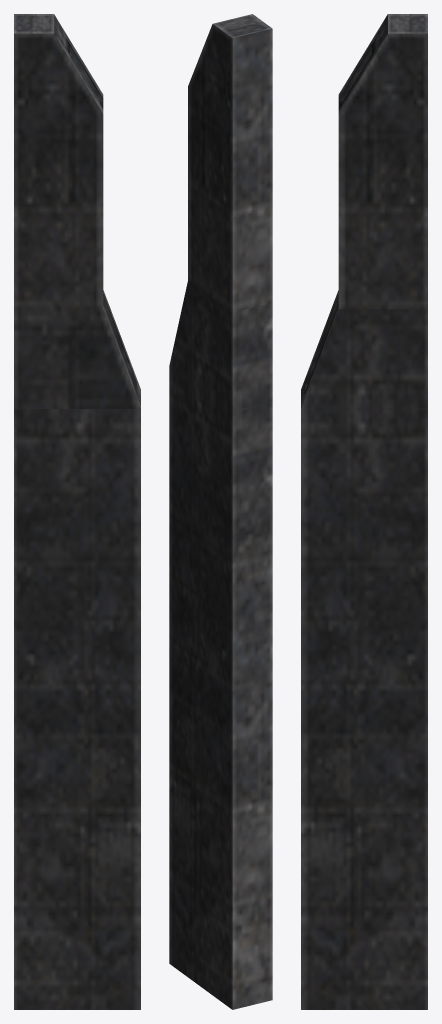
3 renders of one model, left to right at view 1: azimuth 90°, elevation 25°; view 2: azimuth 210°, elevation 25°; view 3: azimuth 270°, elevation 25°, orthographic.
Parts seen in each view (by area): view 1: wj2; view 2: wj2; view 3: wj2.
Part boxes in pixels (x1,y1,x2,y2): wj2: (14,14,140,1009); wj2: (169,14,272,1009); wj2: (301,14,427,1009).
Size of the model in its own units: 47.68 by 1105 by 130.
